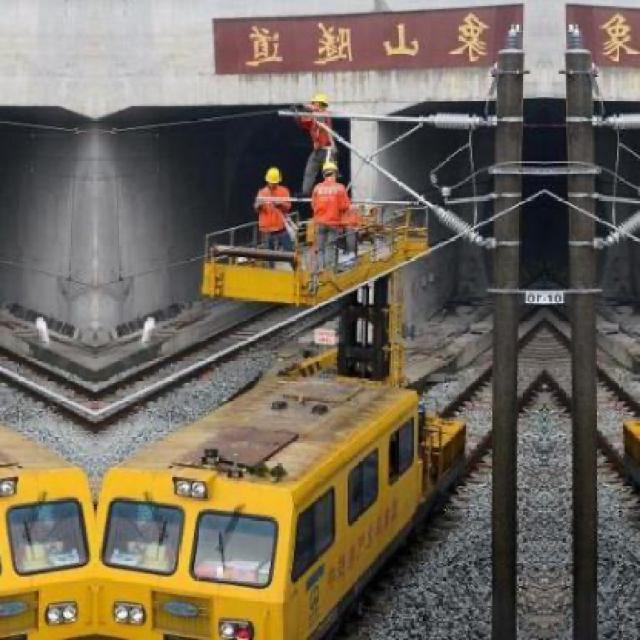con casco: (284, 152, 353, 210), (262, 150, 310, 203)
